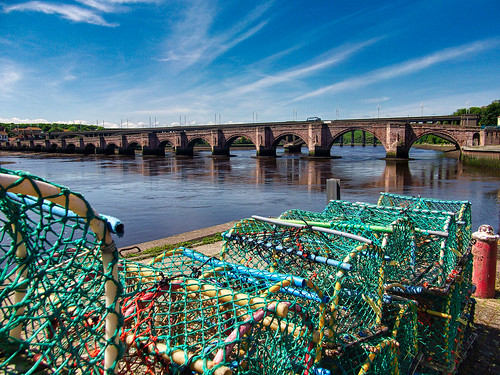bridge: (1, 119, 463, 160)
river: (1, 144, 500, 251)
sky: (1, 1, 496, 109)
